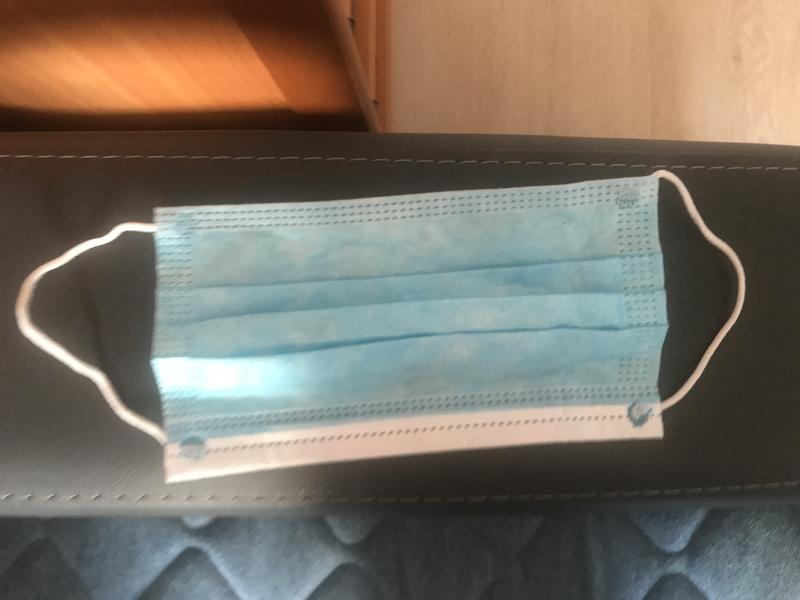medical_mask: (16, 170, 746, 489)
